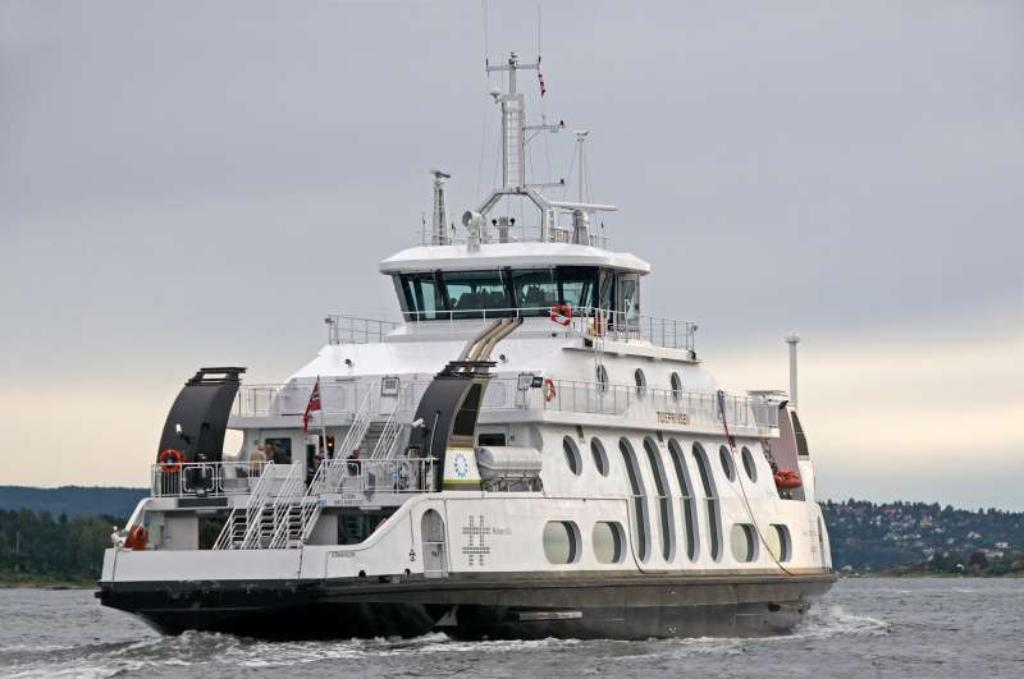PassengerShip: (86, 50, 854, 642)
